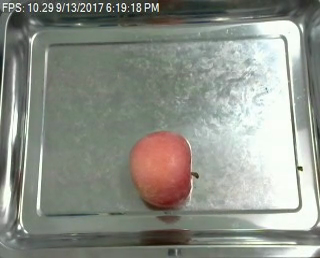Apple: (128, 128, 193, 210)
